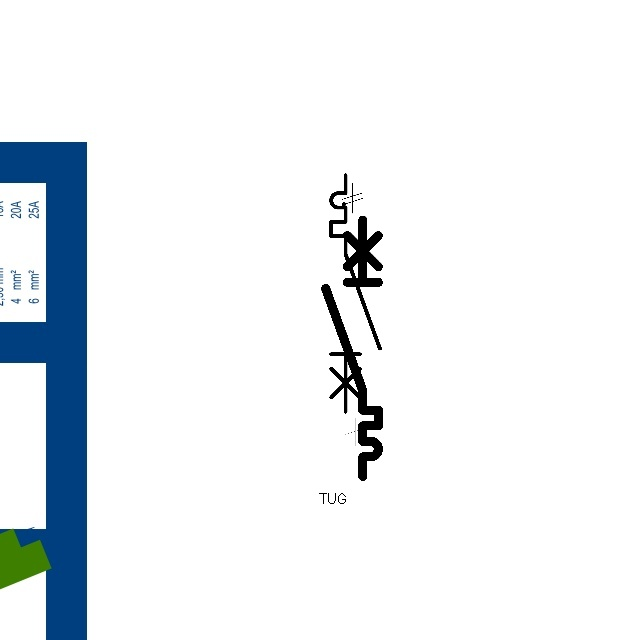interruptor_termomagnetico: (319, 213, 385, 483), (325, 169, 386, 418)
